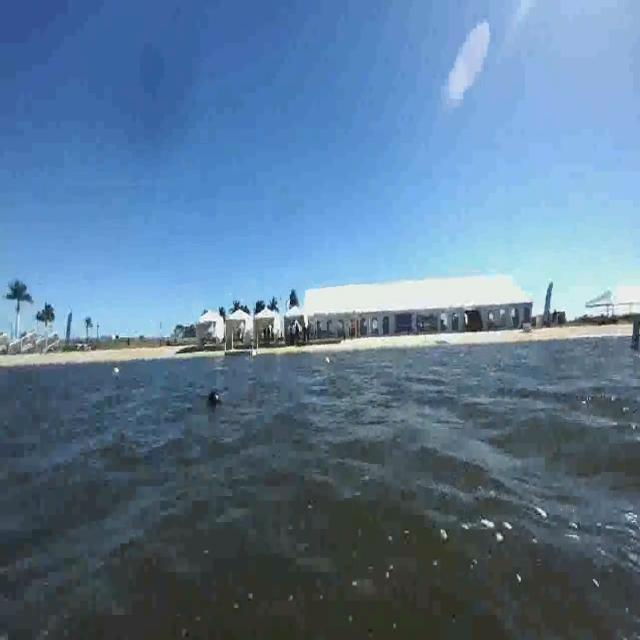black-buoy: (206, 388, 223, 413)
green-column-buoy: (629, 308, 640, 352)
